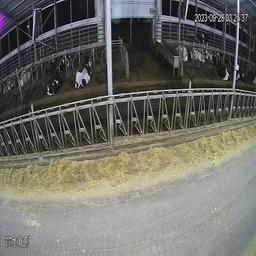cow: (41, 63, 66, 99), (76, 52, 96, 91), (212, 50, 232, 85), (176, 39, 191, 65), (194, 43, 208, 67), (59, 48, 73, 69), (238, 61, 248, 87)
